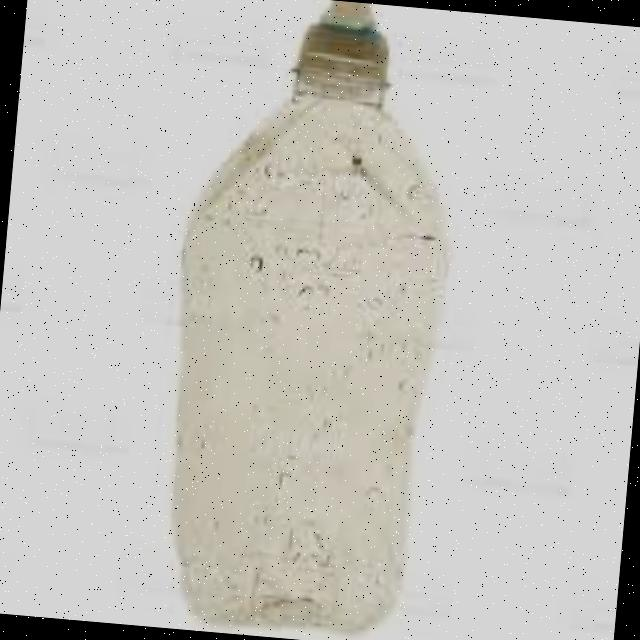Plastic: (107, 0, 488, 640)
